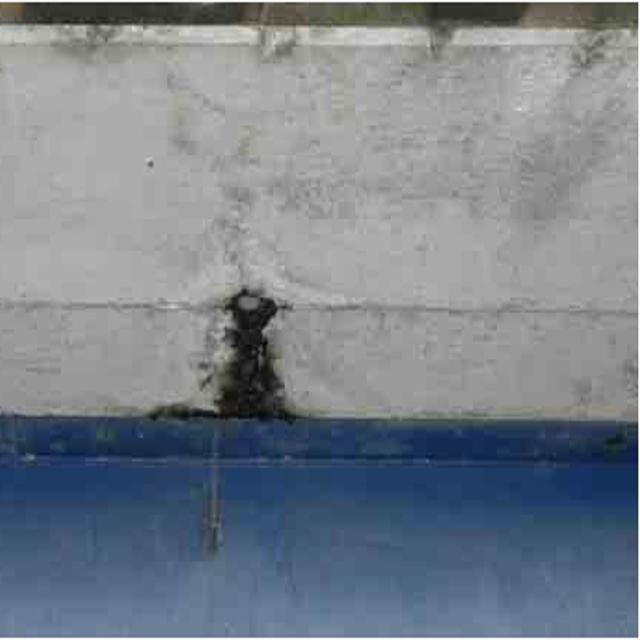leakage: (167, 298, 324, 426)
